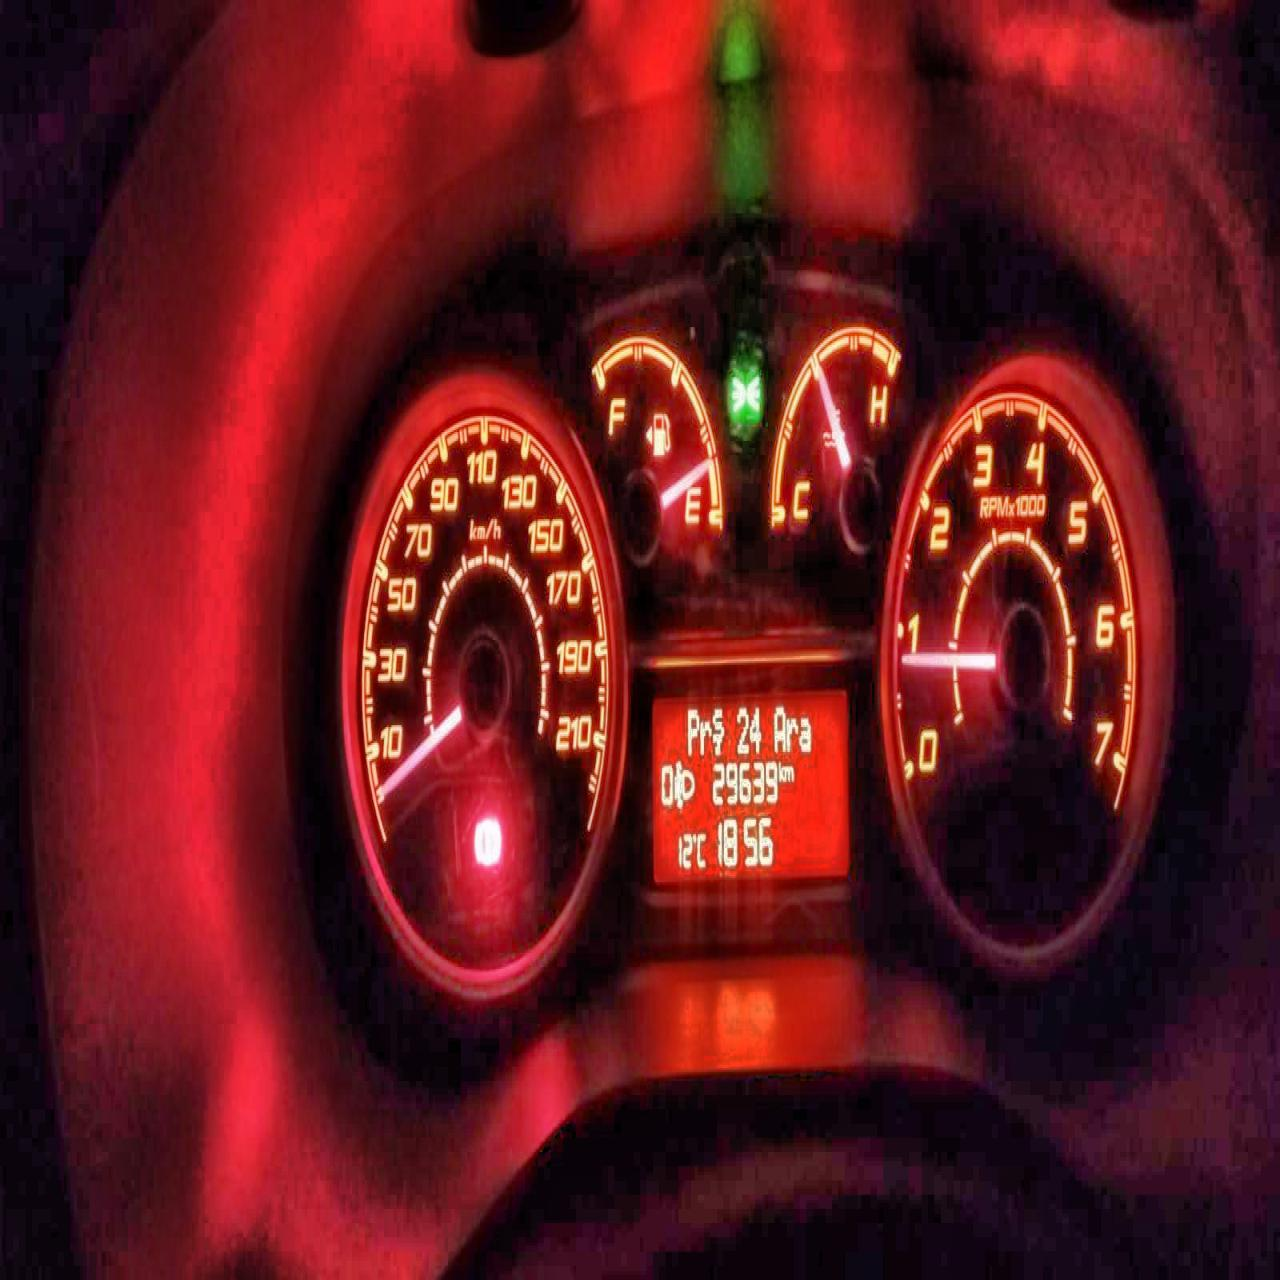0: (661, 760, 673, 804)
1: (716, 815, 722, 870), (676, 829, 681, 867)
2: (736, 702, 749, 754), (710, 760, 723, 805), (682, 829, 692, 867)
3: (753, 760, 765, 804)
4: (749, 702, 762, 754)
5: (742, 812, 757, 866)
6: (757, 812, 772, 866), (737, 760, 751, 804)
8: (722, 815, 737, 867)
9: (724, 757, 737, 805), (765, 757, 777, 803)
X: (712, 702, 723, 753), (687, 704, 697, 756), (774, 702, 784, 753), (785, 713, 797, 753), (799, 713, 811, 753), (696, 826, 707, 870), (700, 715, 710, 756), (784, 761, 794, 782), (778, 760, 784, 782)
odometer: (648, 679, 853, 888)
